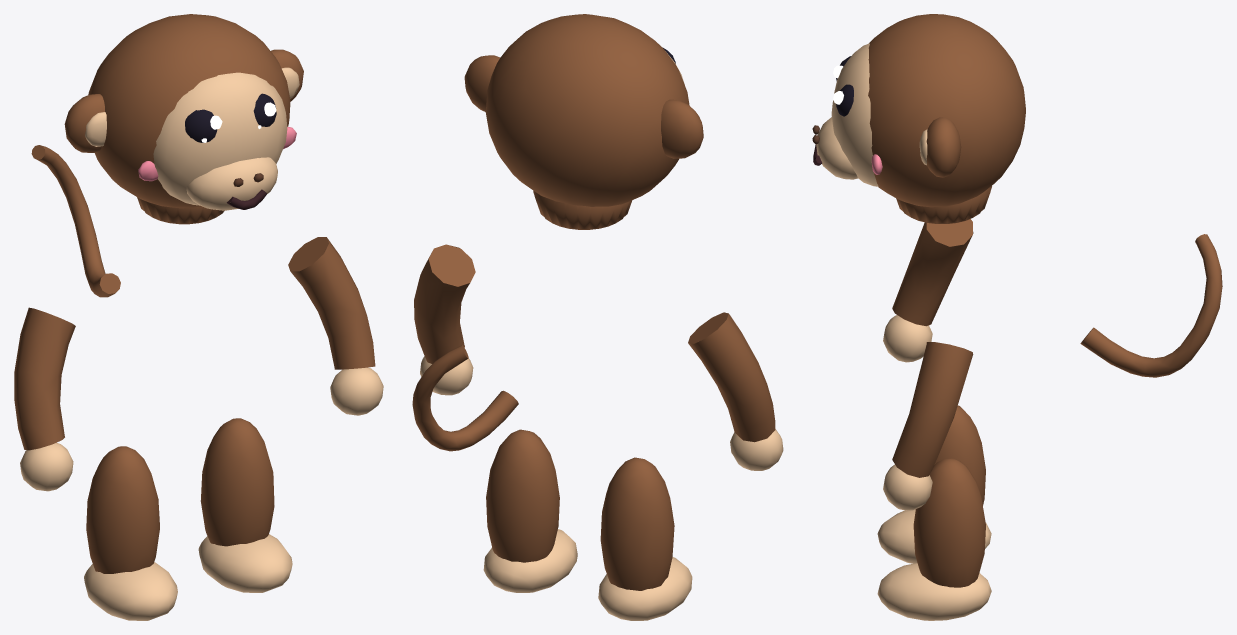
File: tb_dyr_ape.glb
3 renders of one model, left to right at view 1: azimuth 30°, elevation 25°; view 2: azimuth 150°, elevation 25°; view 3: azimuth 270°, elevation 25°, orthographic. The views are drawn at different scales.
Parts seen in each view (by area): view 1: hode, bein_vf, bein_hf, vinge_v, vinge_h, hale; view 2: hode, bein_vf, bein_hf, vinge_v, vinge_h, hale; view 3: hode, bein_hf, vinge_h, vinge_v, hale, bein_vf.
Part boxes in pixels (bbox=[...]): hode: bbox=[64, 14, 303, 224]; bein_vf: bbox=[84, 446, 177, 620]; bein_hf: bbox=[198, 418, 292, 592]; vinge_v: bbox=[14, 307, 75, 491]; vinge_h: bbox=[288, 237, 383, 415]; hale: bbox=[31, 145, 120, 297]; hode: bbox=[464, 14, 703, 229]; bein_vf: bbox=[598, 457, 692, 620]; bein_hf: bbox=[483, 429, 577, 592]; vinge_v: bbox=[688, 312, 783, 470]; vinge_h: bbox=[414, 244, 475, 395]; hale: bbox=[412, 345, 518, 451]; hode: bbox=[812, 14, 1025, 223]; bein_hf: bbox=[877, 458, 991, 620]; vinge_h: bbox=[883, 342, 973, 510]; vinge_v: bbox=[883, 219, 973, 362]; hale: bbox=[1080, 234, 1222, 377]; bein_vf: bbox=[877, 405, 991, 563].
Size of the model in its own units: 1.06 by 1.63 by 1.07.
